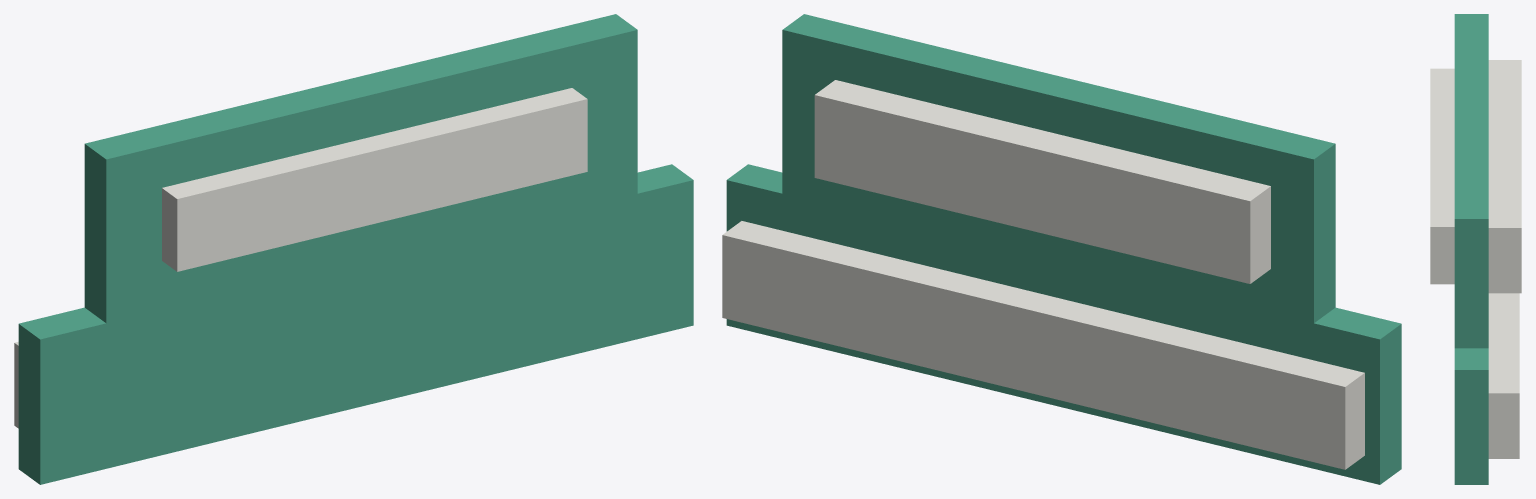
The model's file is Option_B_V2_part_1.glb.
3 views of the same model, side by side, from view 1: azimuth 30°, elevation 25°; view 2: azimuth 150°, elevation 25°; view 3: azimuth 270°, elevation 25° (orthographic). The views are drawn at different scales.
Parts seen in each view (by area): view 1: board, conn; view 2: conn, board; view 3: conn, board.
Part boxes in pixels (box(x1,y1,x2,y2)): board: box(18, 14, 693, 484); conn: box(14, 88, 587, 428); conn: box(722, 80, 1364, 469); board: box(726, 14, 1401, 484); conn: box(1430, 60, 1521, 458); board: box(1454, 14, 1488, 484).
Bounding box in the file's own units: 27.9 × 12.62 × 4.27.
